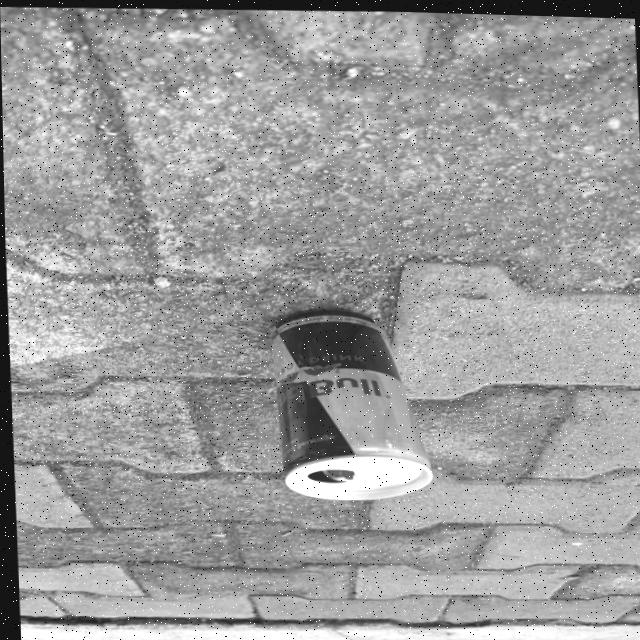Redbul: (267, 307, 431, 495)
